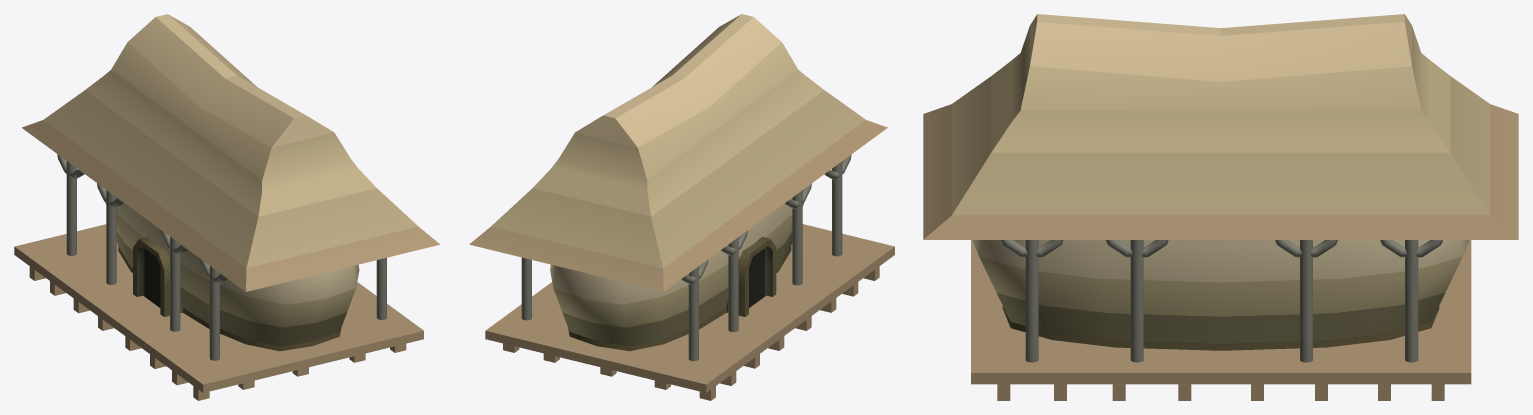
File: fishing_shack.fbx
3 renders of one model, left to right at view 1: azimuth 30°, elevation 25°; view 2: azimuth 150°, elevation 25°; view 3: azimuth 270°, elevation 25°, orthographic. The views are drawn at different scales.
Parts seen in each view (by area): view 1: pCube64, polySurface10, pPlane6, pCube67, polySurface13, polySurface11, polySurface17, polySurface15, polySurface25; view 2: pCube64, polySurface10, pPlane6, pCube67, polySurface13, polySurface15, polySurface17, polySurface11, polySurface19; view 3: pCube64, pPlane6, polySurface10, polySurface25, polySurface19, polySurface23, polySurface21, polySurface26, polySurface20, polySurface22, polySurface24.
Part boxes in pixels (x1,y1,x2,y2): pCube64: (22,14,439,291); polySurface10: (14,224,423,400); pPlane6: (105,198,359,351); pCube67: (133,237,182,316); polySurface13: (209,266,219,360); polySurface11: (66,161,76,255); polySurface17: (106,190,116,284); polySurface15: (170,236,180,331); polySurface25: (376,257,386,319); pCube64: (469,14,887,291); polySurface10: (485,224,894,400); pPlane6: (550,198,803,351); pCube67: (726,237,776,316); polySurface13: (832,161,842,256); polySurface15: (792,190,802,285); polySurface17: (728,237,738,332); polySurface11: (688,266,698,361); polySurface19: (521,257,531,320); pCube64: (923,14,1518,239); pPlane6: (972,240,1469,350); polySurface10: (971,240,1471,400); polySurface25: (1025,240,1038,362); polySurface19: (1405,240,1418,362); polySurface23: (1130,240,1143,362); polySurface21: (1300,240,1312,362); polySurface26: (1000,240,1063,257); polySurface20: (1380,240,1442,257); polySurface22: (1275,240,1337,257); polySurface24: (1105,240,1168,257).
Bounding box in the file's own units: 1.62 × 1.72 × 2.86.
Materials: 7 (2 with a texture image).
